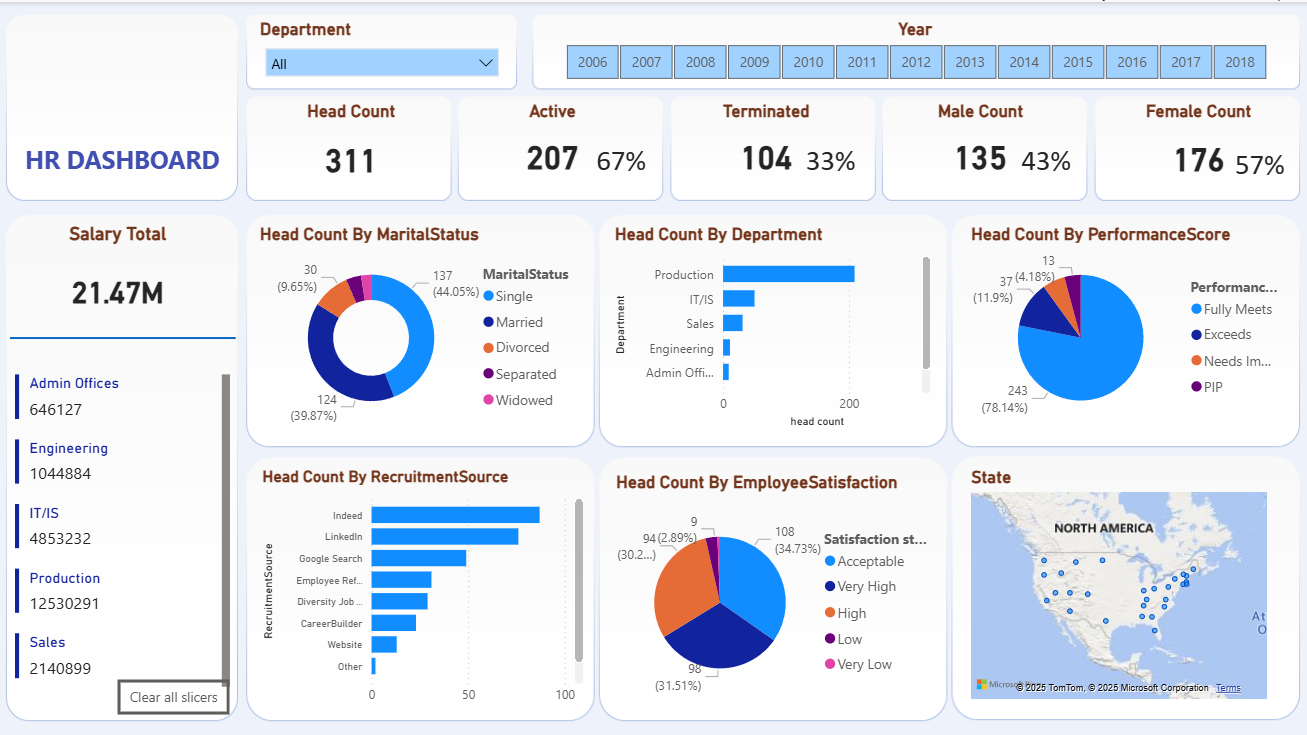

The page's visual inventory and layout, read from the dashboard file:
{"tool":"powerbi","page":{"name":"Page 1","canvas":[1280,720],"ordinal":0},"visuals":[{"type":"slicer","title":"Department","fields":{"Values":["HRData.Department"]},"box":[249.7,16.5,248.4,64.5],"z":0},{"type":"slicer","title":"Year","fields":{"Values":["HRData.HiringDate.Variation.Date Hierarchy.Year"]},"box":[528.3,16.5,734.1,65.9],"z":1000},{"type":"textbox","box":[9.6,133.1,219.6,48],"z":2000},{"type":"card","title":"Head Count","fields":{"Values":["Measure.head count"]},"box":[259.3,96.1,168.8,94.7],"z":3000},{"type":"card","title":"Active","fields":{"Values":["Measure.active emp"]},"box":[459.8,96.6,161.4,88],"z":4000},{"type":"card","fields":{"Values":["Measure.active &"]},"box":[576,137,63.6,34.2],"z":5000},{"type":"card","title":"Terminated","fields":{"Values":["Measure.terminated"]},"box":[676.2,96.6,146.7,88],"z":6000},{"type":"card","fields":{"Values":["Measure.terminated %"]},"box":[780.2,137,64.8,34.2],"z":7000},{"type":"card","title":"Male Count","fields":{"Values":["Measure.male count"]},"box":[895.1,96.6,128.4,88],"z":8000},{"type":"card","title":"Female Count","fields":{"Values":["Measure.female count"]},"box":[1100.5,96.6,144.3,91.7],"z":9000},{"type":"card","fields":{"Values":["Measure.male %"]},"box":[992.9,122.3,61.1,63.6],"z":10000},{"type":"card","fields":{"Values":["Measure.female %"]},"box":[1203.3,133.3,58.7,50.1],"z":11000},{"type":"donutChart","title":"Head Count By MaritalStatus","fields":{"Y":["Measure.head count"],"Category":["HRData.MaritalStatus"]},"box":[249.5,216.4,326.5,205.4],"z":12000},{"type":"barChart","title":"Head Count By Department","fields":{"Y":["Measure.head count"],"Category":["HRData.Department"]},"box":[596.7,216.5,318.5,205.2],"z":13000},{"type":"pieChart","title":"Head Count By PerformanceScore","fields":{"Category":["HRData.PerformanceScore"],"Y":["Measure.head count"]},"box":[945.4,216.5,317.2,205.2],"z":14000},{"type":"barChart","title":"Head Count By RecruitmentSource","fields":{"Category":["HRData.RecruitmentSource"],"Y":["Measure.head count"]},"box":[252.5,455,323.8,241.2],"z":15000},{"type":"pieChart","title":"Head Count By EmployeeSatisfaction","fields":{"Y":["Measure.head count"],"Category":["HRData.Satisfaction status"]},"box":[598,459.5,317.2,236.7],"z":16000},{"type":"map","fields":{"Category":["HRData.State"]},"box":[945,455,298.8,232.5],"z":17000},{"type":"card","title":"Salary Total","fields":{"Values":["Sum(HRData.Salary)"]},"box":[0,216.8,230.5,112.5],"z":18000},{"type":"multiRowCard","fields":{"Values":["HRData.Department","Sum(HRData.Salary)"]},"box":[9.8,359.5,220.1,327.7],"z":19000},{"type":"actionButton","box":[115.3,662.8,109.8,34.3],"z":20000},{"type":"shape","box":[9.6,308.7,220.9,41.2],"z":20001}]}

Visuals, with their boxes in screenshot pixels (x1, y1, x2, y2), scaled from the page's 1280x720 canvas onto the 1307x735 screenshot:
"Department" slicer: 255:17:509:83
"Year" slicer: 539:17:1289:84
textbox: 10:136:234:185
"Head Count" card: 265:98:437:195
"Active" card: 469:99:634:188
card - Measure.active &: 588:140:653:175
"Terminated" card: 690:99:840:188
card - Measure.terminated %: 797:140:863:175
"Male Count" card: 914:99:1045:188
"Female Count" card: 1124:99:1271:192
card - Measure.male %: 1014:125:1076:190
card - Measure.female %: 1229:136:1289:187
"Head Count By MaritalStatus" donutChart: 255:221:588:431
"Head Count By Department" barChart: 609:221:935:430
"Head Count By PerformanceScore" pieChart: 965:221:1289:430
"Head Count By RecruitmentSource" barChart: 258:464:588:711
"Head Count By EmployeeSatisfaction" pieChart: 611:469:935:711
map - HRData.State: 965:464:1270:702
"Salary Total" card: 0:221:235:336
multiRowCard - HRData.Department x Sum(HRData.Salary): 10:367:235:702
actionButton: 118:677:230:712
shape: 10:315:235:357
